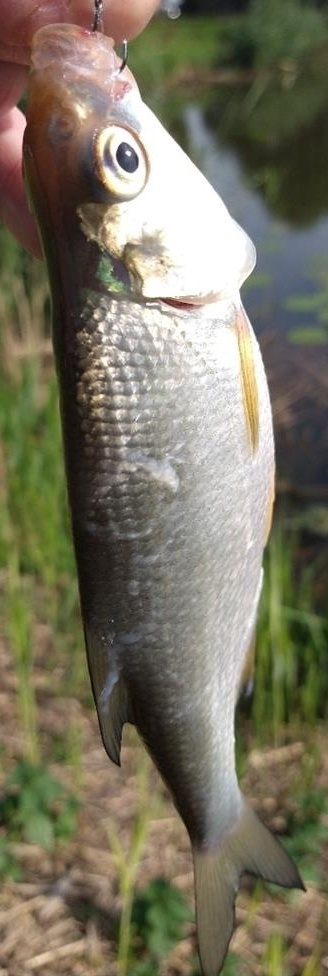Vimba vimba: (20, 20, 308, 976)
